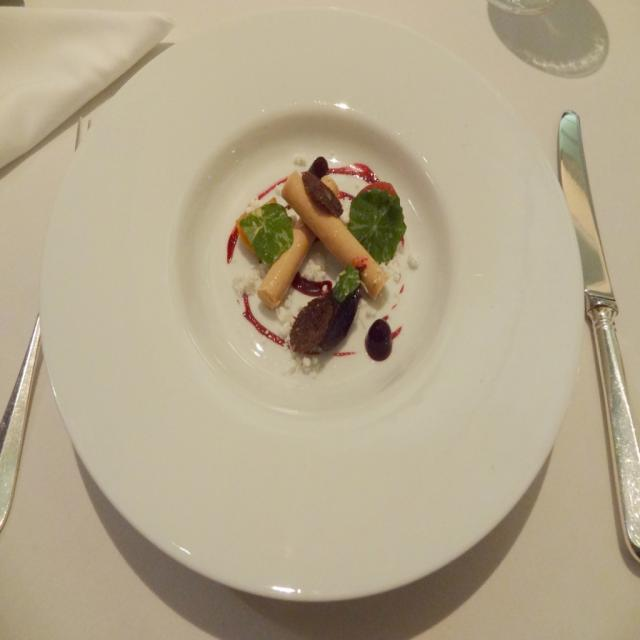non-organic waste: (40, 63, 568, 570)
